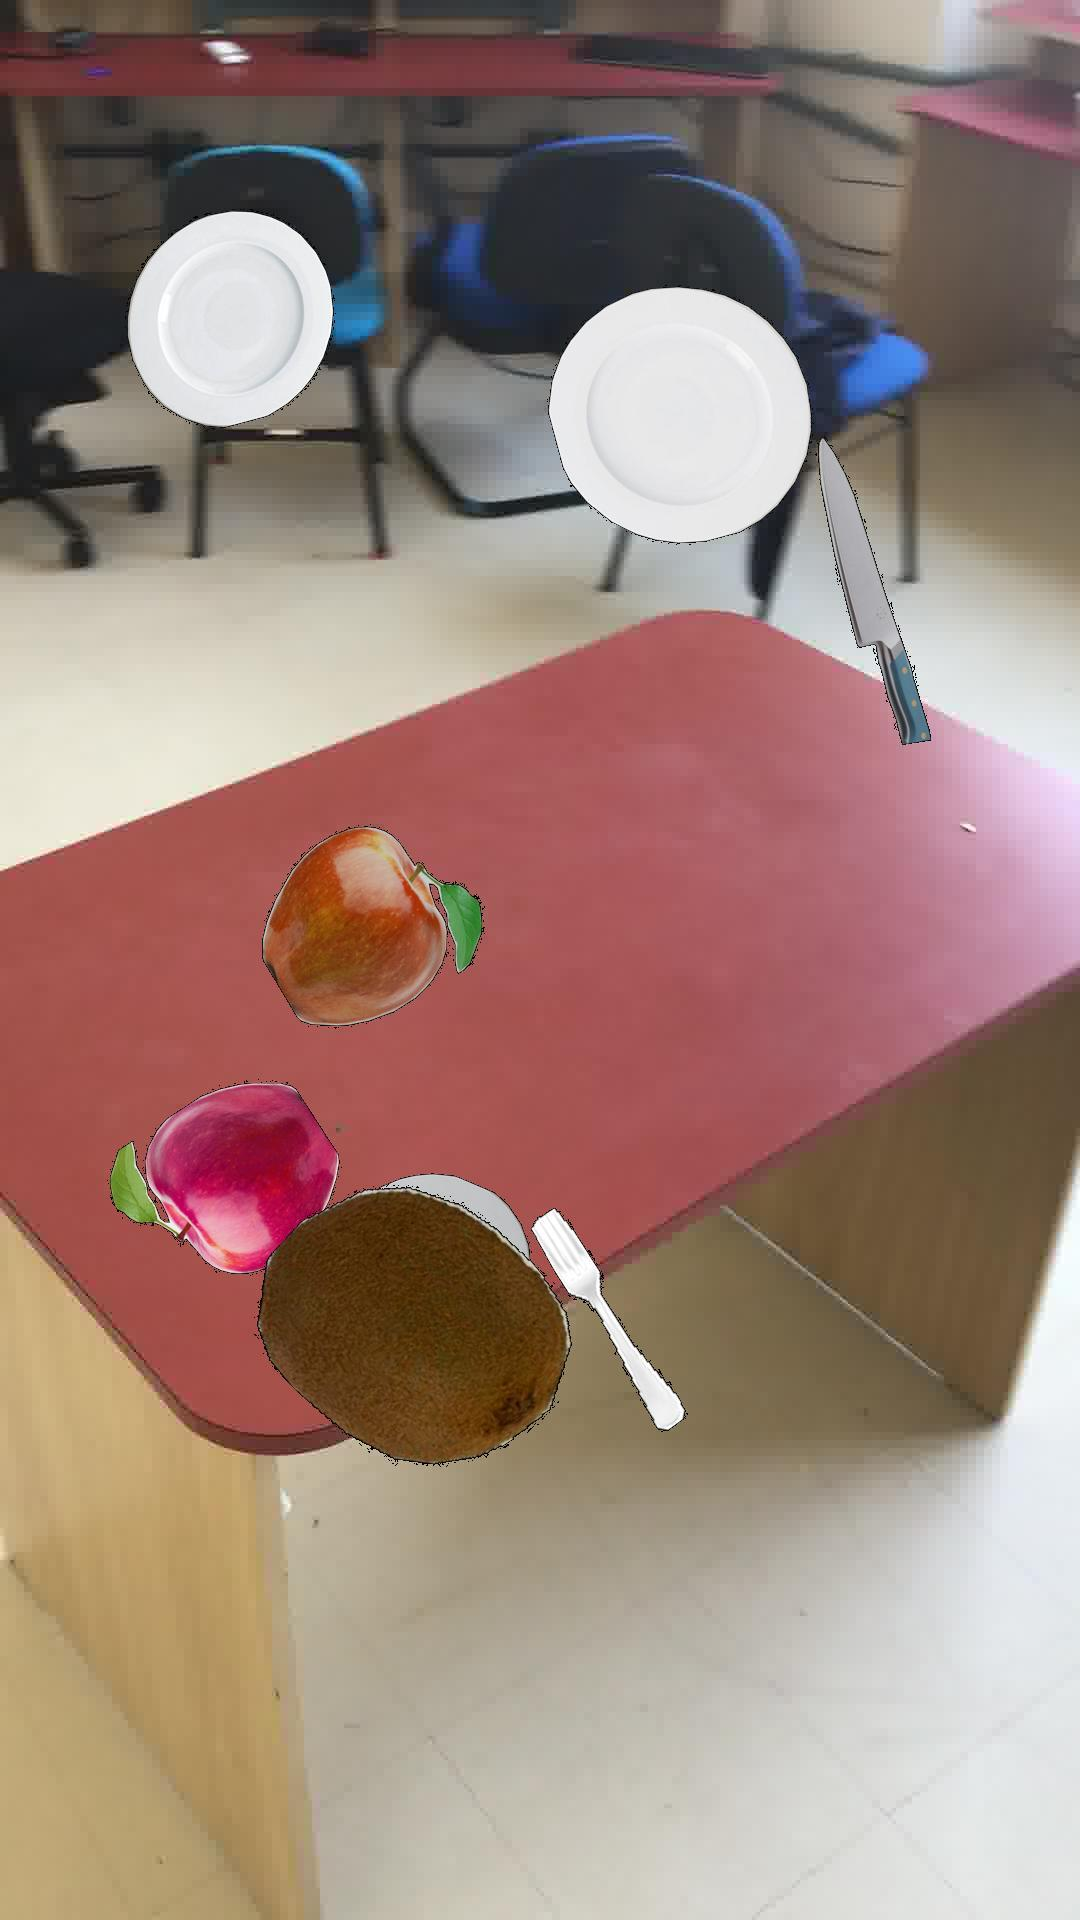apple: (261, 824, 484, 1025), (108, 1080, 338, 1273)
fork: (530, 1207, 684, 1429)
kiwi: (256, 1184, 571, 1465)
knife: (815, 435, 928, 744)
plate: (546, 284, 811, 542), (124, 207, 334, 426), (377, 1171, 529, 1258)
